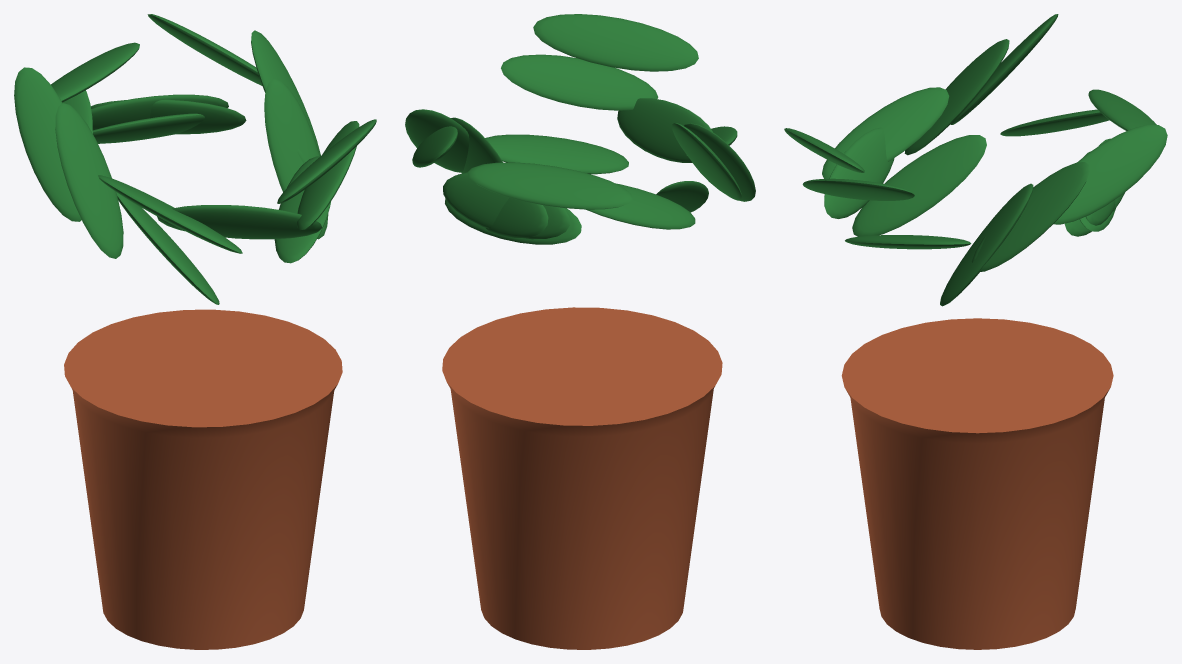
Rendered from plant.glb.
The picture shows the model from 3 angles, left to right: view 1: azimuth 30°, elevation 25°; view 2: azimuth 150°, elevation 25°; view 3: azimuth 270°, elevation 25°; orthographic projection. The views are drawn at different scales.
Parts seen in each view (by area): view 1: pot, leaves; view 2: pot, leaves; view 3: pot, leaves.
Boxes of the visible parts, x1=… form: pot: x1=64, y1=309, x2=342, y2=649; leaves: x1=14, y1=14, x2=376, y2=304; pot: x1=442, y1=307, x2=722, y2=649; leaves: x1=405, y1=14, x2=755, y2=244; pot: x1=841, y1=318, x2=1113, y2=649; leaves: x1=784, y1=14, x2=1167, y2=306.
Bounding box in the file's own units: 0.436 × 0.7729 × 0.5075.
